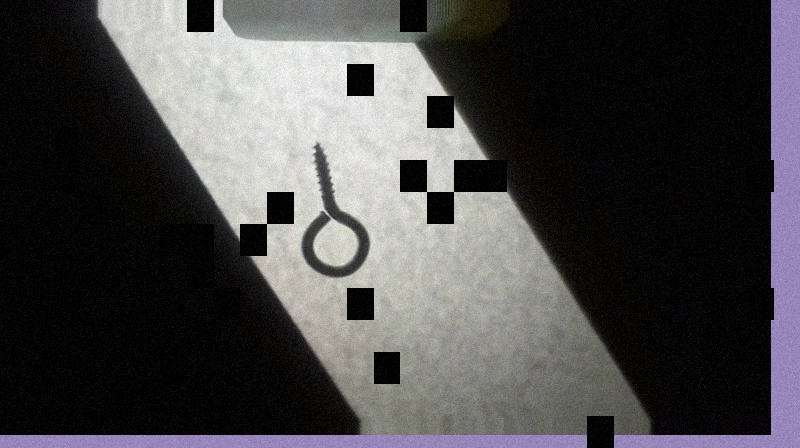O001: (295, 138, 373, 278)
